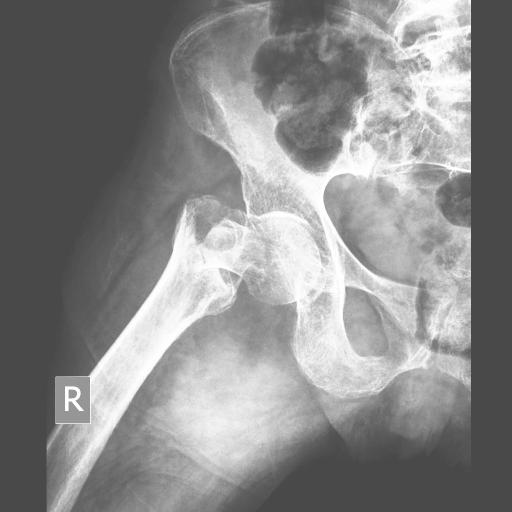neck: (119, 192, 246, 366), (195, 216, 321, 306)
